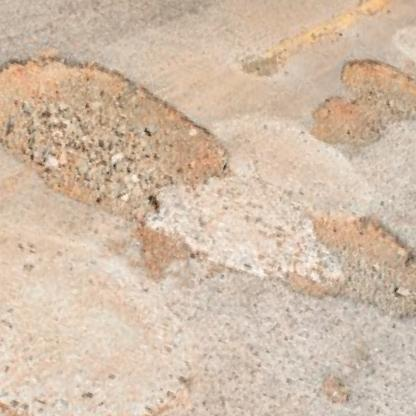pothole: (0, 23, 250, 251), (278, 189, 416, 347), (300, 44, 416, 178)
